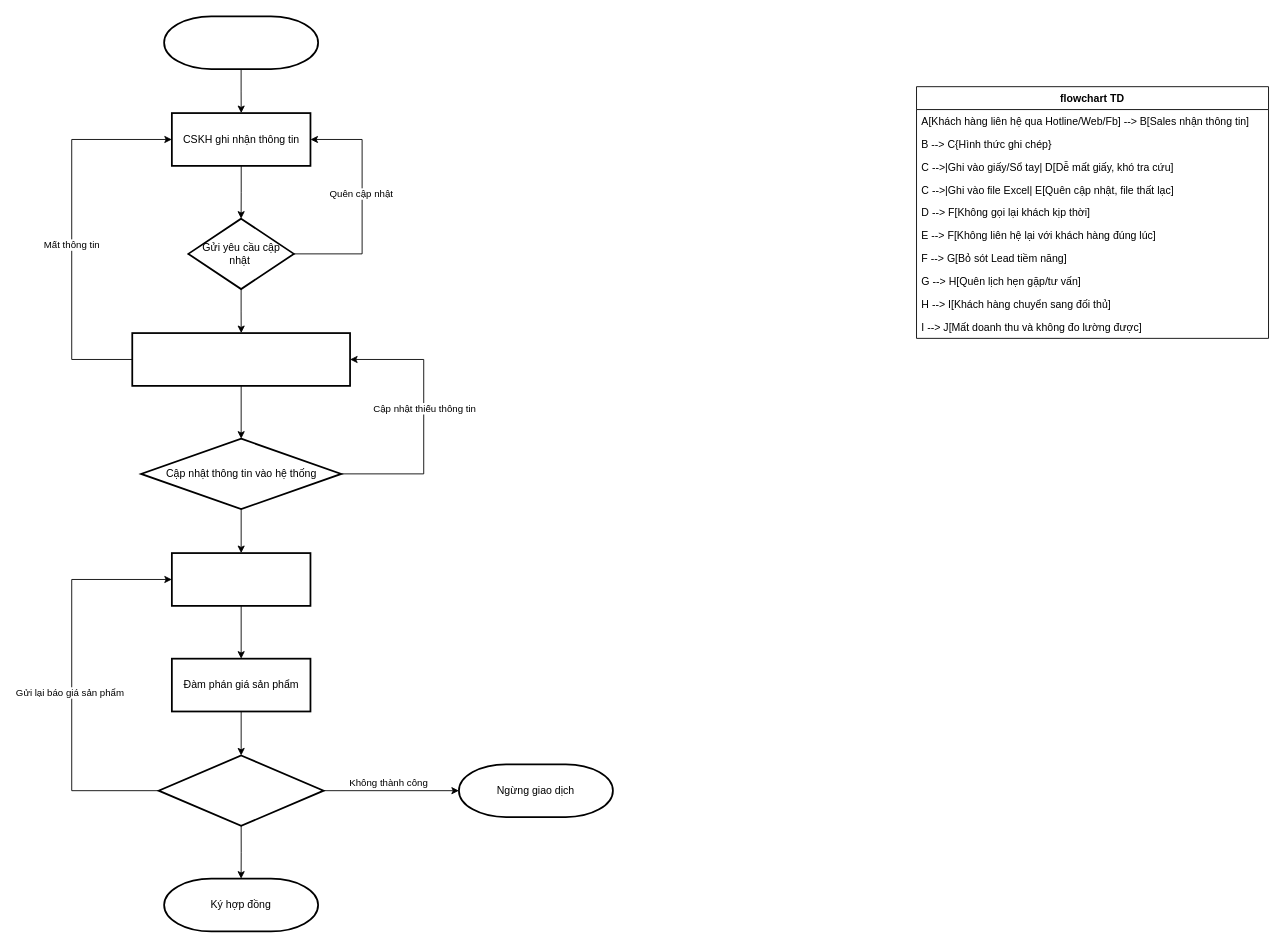
Some shapes in this 1284 by 947 pixel diagram are drawn without their labels. The shapes that lost their labels are listed below. From the top down, each one's centre as x and y in pixels, then its label:
(x=241, y=42): Khách hàng liên hệ tư vấn
(x=241, y=359): Ghi lại thông tin
(x=241, y=579): Gửi báo giá sản phẩm cho khách hàng
(x=240, y=790): Thống nhất giá cả và các điều khoản
